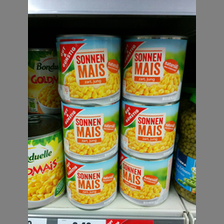corn: (121, 35, 188, 106), (54, 32, 121, 102), (120, 100, 181, 159), (60, 101, 120, 159), (118, 149, 174, 208), (28, 115, 63, 209), (63, 154, 118, 211)
